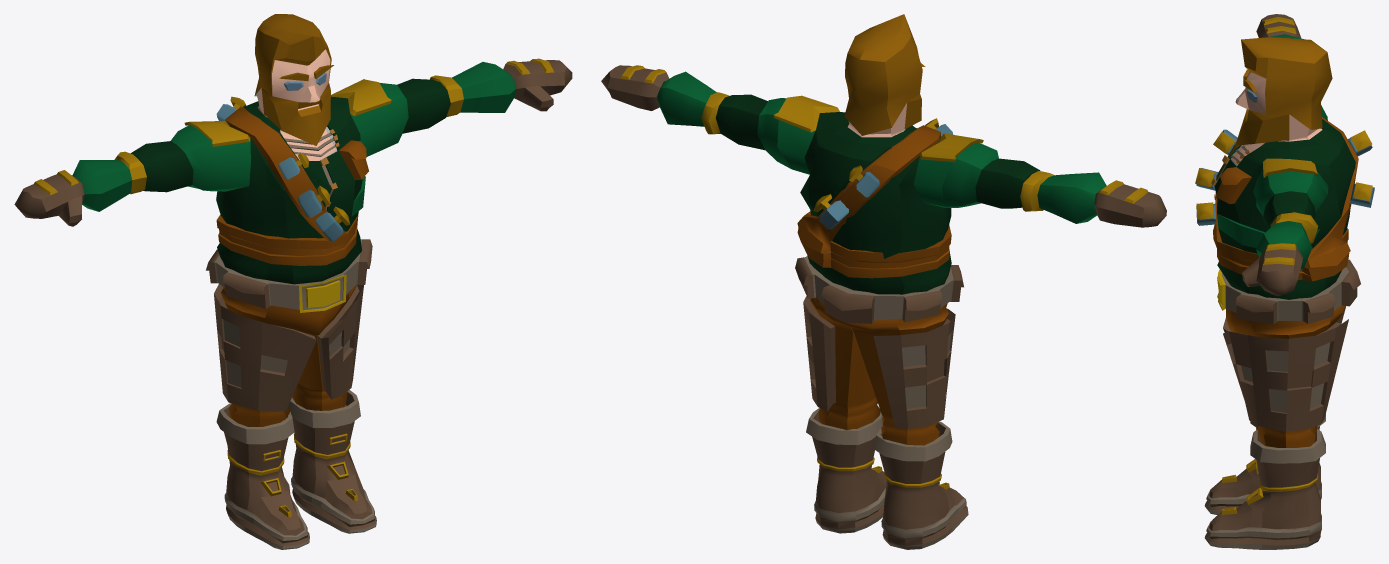
File: nano.fbx
3 renders of one model, left to right at view 1: azimuth 30°, elevation 25°; view 2: azimuth 150°, elevation 25°; view 3: azimuth 270°, elevation 25°, orthographic. The views are drawn at different scales.
Parts seen in each view (by area): view 1: nano; view 2: nano; view 3: nano.
Boxes of the visible parts, bbox=[...] form: nano: bbox=[14, 14, 572, 549]; nano: bbox=[601, 14, 1166, 549]; nano: bbox=[1195, 14, 1374, 549].
Size of the model in its own units: 75.1 by 63.49 by 21.39.
